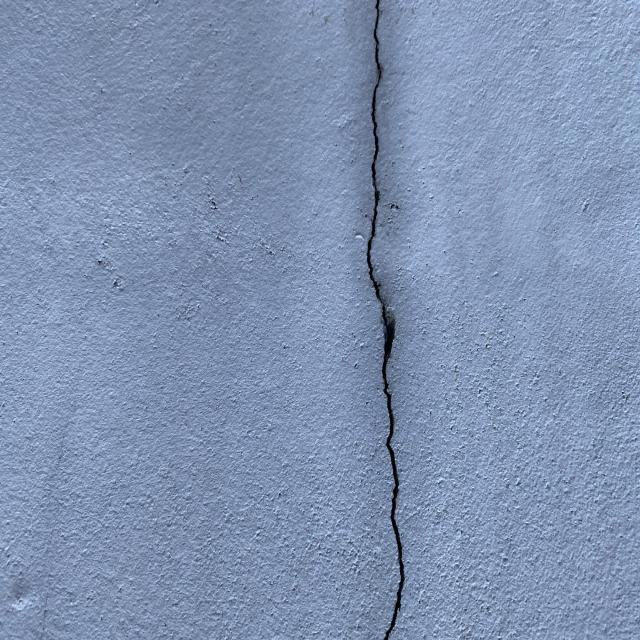SurfaceCrack: (317, 1, 446, 639)
